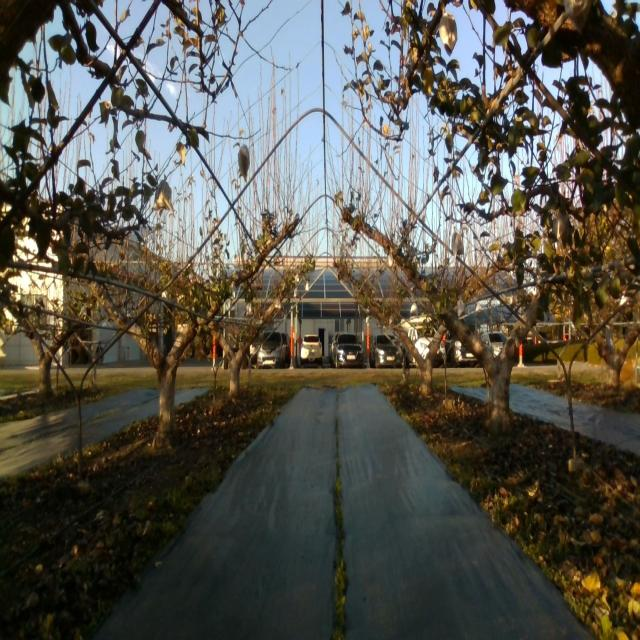pearbags: (439, 13, 458, 57), (552, 208, 570, 250), (152, 180, 174, 213), (238, 144, 251, 182), (452, 233, 464, 255)
